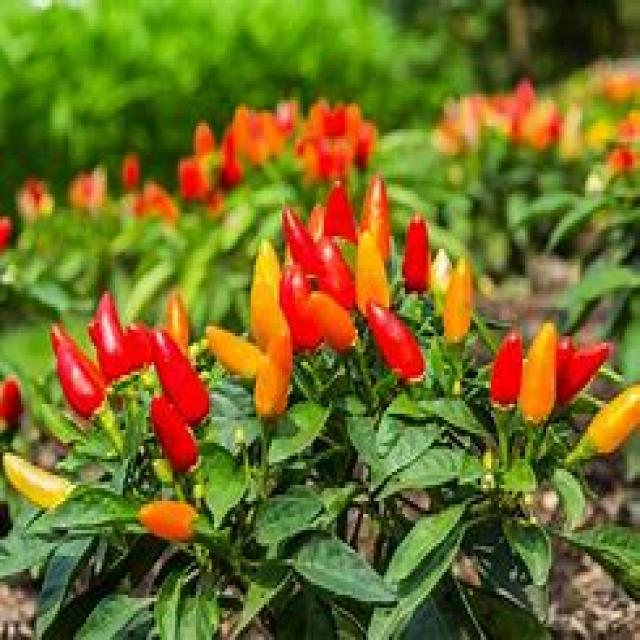Mosaic_virus: (0, 155, 640, 640)
